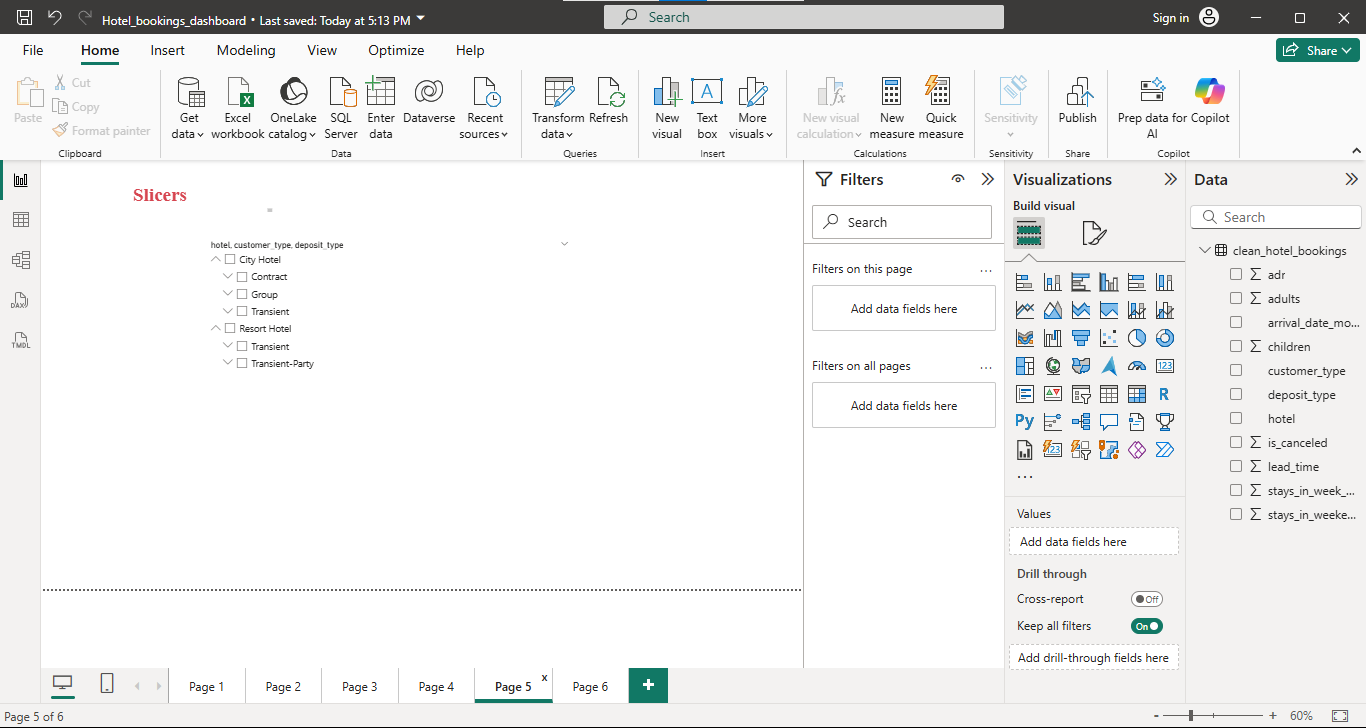

The page's visual inventory and layout, read from the dashboard file:
{"tool":"powerbi","page":{"name":"Page 5","canvas":[1280,720],"ordinal":4},"visuals":[{"type":"slicer","fields":{"Values":["clean_hotel_bookings.hotel","clean_hotel_bookings.customer_type","clean_hotel_bookings.deposit_type"]},"box":[272.1,129.3,626.6,460.3],"z":0},{"type":"textbox","title":"Slicers","box":[149.5,40.3,243.6,52.1],"z":1}]}

Visuals, with their boxes on the page's 1280x720 design canvas (x1, y1, x2, y2). These are canvas units, not pixel positions in the 1366x728 screenshot, which may show the page scaled, cropped or inside an application window:
slicer - clean_hotel_bookings.hotel x clean_hotel_bookings.customer_type: (left=272, top=129, right=899, bottom=590)
"Slicers" textbox: (left=150, top=40, right=393, bottom=92)
